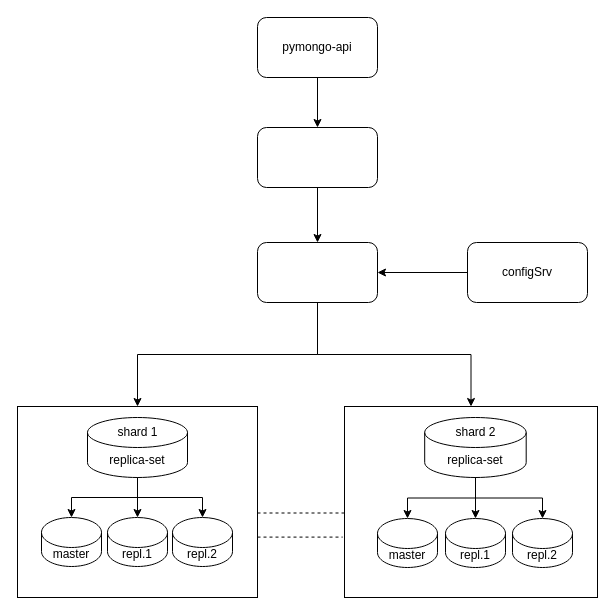
This 615x615 diagram has some shape labels left out. Each missing label, with the centre of its shape:
"mongos" goes at pixel 317 272.
"драйвер" goes at pixel 317 157.
